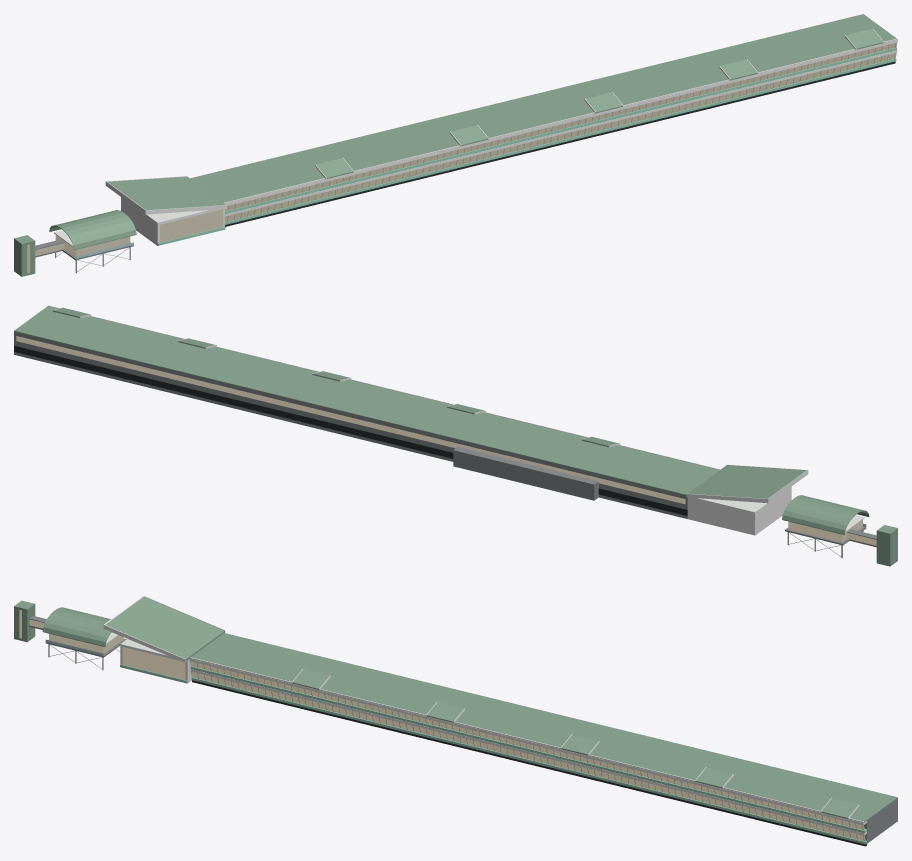
File: sgp_pit_upper.glb
3 views of the same model, one above another, from view 1: azimuth 30°, elevation 25°; view 2: azimuth 150°, elevation 25°; view 3: azimuth 330°, elevation 25° (orthographic).
Parts seen in each view (by area): view 1: singapore-pit-building; view 2: singapore-pit-building; view 3: singapore-pit-building.
Part boxes in pixels (x1=…): singapore-pit-building: x1=14, y1=14, x2=897, y2=276; singapore-pit-building: x1=14, y1=305, x2=897, y2=566; singapore-pit-building: x1=14, y1=595, x2=897, y2=846.
Bounding box in the file's own units: 385 × 22.5 × 33.6.
